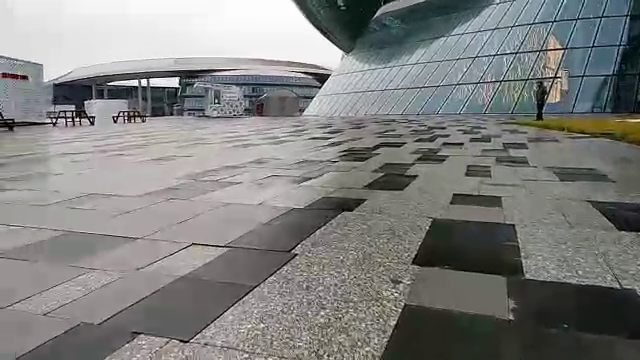kassa: (191, 79, 253, 123)
